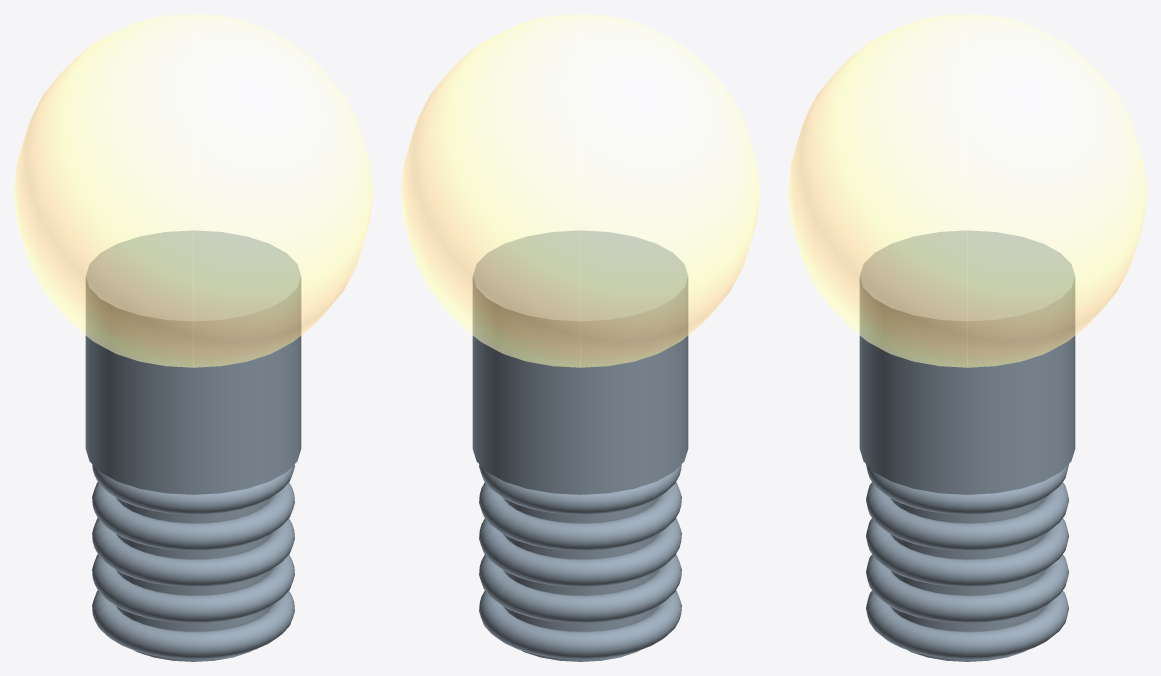
The model's file is bulb-a19.glb.
3 views of the same model, side by side, from view 1: azimuth 30°, elevation 25°; view 2: azimuth 150°, elevation 25°; view 3: azimuth 270°, elevation 25° (orthographic).
Visible parts, largest first — view 1: glass bulb, A19 bulb; view 2: glass bulb, A19 bulb; view 3: glass bulb, A19 bulb.
Boxes of the visible parts, bbox=[...] form: glass bulb: bbox=[14, 14, 372, 367]; A19 bulb: bbox=[85, 230, 301, 661]; glass bulb: bbox=[401, 14, 759, 367]; A19 bulb: bbox=[472, 230, 688, 661]; glass bulb: bbox=[788, 14, 1146, 367]; A19 bulb: bbox=[859, 230, 1075, 661].
Size of the model in its own units: 0.9 by 1.65 by 0.9.
